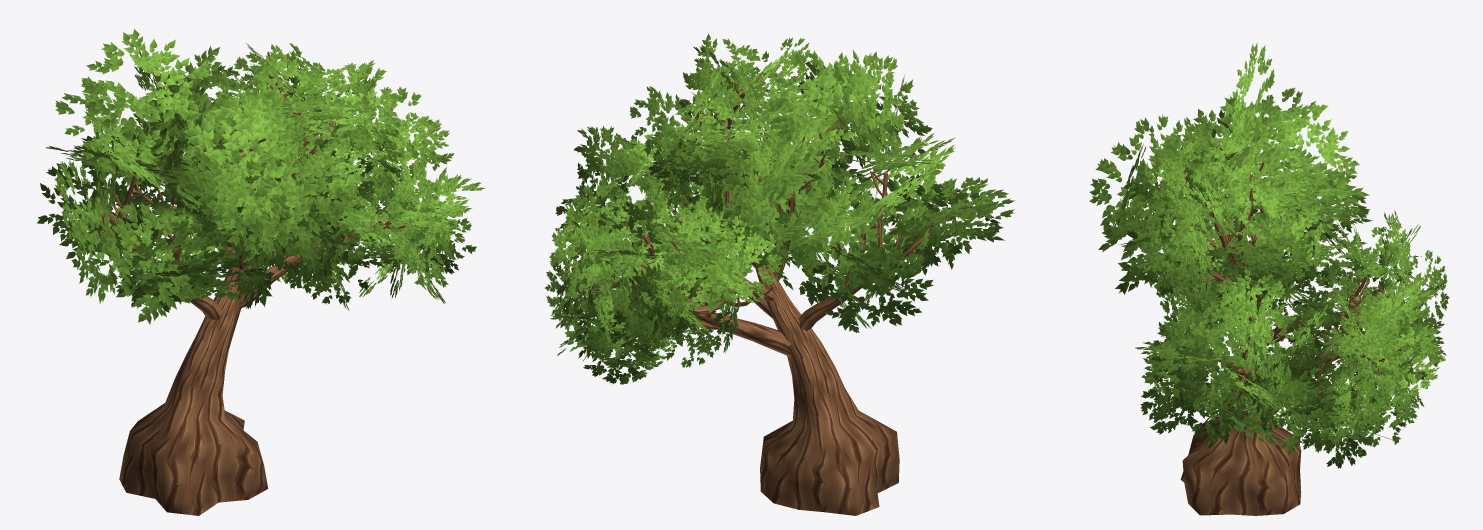
Rendered from ct_birch_0.gltf.
3 renders of one model, left to right at view 1: azimuth 30°, elevation 25°; view 2: azimuth 150°, elevation 25°; view 3: azimuth 270°, elevation 25°, orthographic. The views are drawn at different scales.
Visible parts, largest first — view 1: ct_birch_0_leaves_LOD0, ct_birch_0_trunk_LOD0; view 2: ct_birch_0_leaves_LOD0, ct_birch_0_trunk_LOD0; view 3: ct_birch_0_leaves_LOD0, ct_birch_0_trunk_LOD0.
Part boxes in pixels (x1=…): ct_birch_0_leaves_LOD0: x1=37, y1=29, x2=484, y2=324; ct_birch_0_trunk_LOD0: x1=88, y1=51, x2=416, y2=515; ct_birch_0_leaves_LOD0: x1=545, y1=33, x2=1014, y2=384; ct_birch_0_trunk_LOD0: x1=575, y1=82, x2=932, y2=515; ct_birch_0_leaves_LOD0: x1=1089, y1=42, x2=1449, y2=468; ct_birch_0_trunk_LOD0: x1=1156, y1=158, x2=1416, y2=515.
Size of what is drawn, in the model's own units: 9.88 by 9.7 by 7.93.
Materials: 2 (2 with a texture image).
